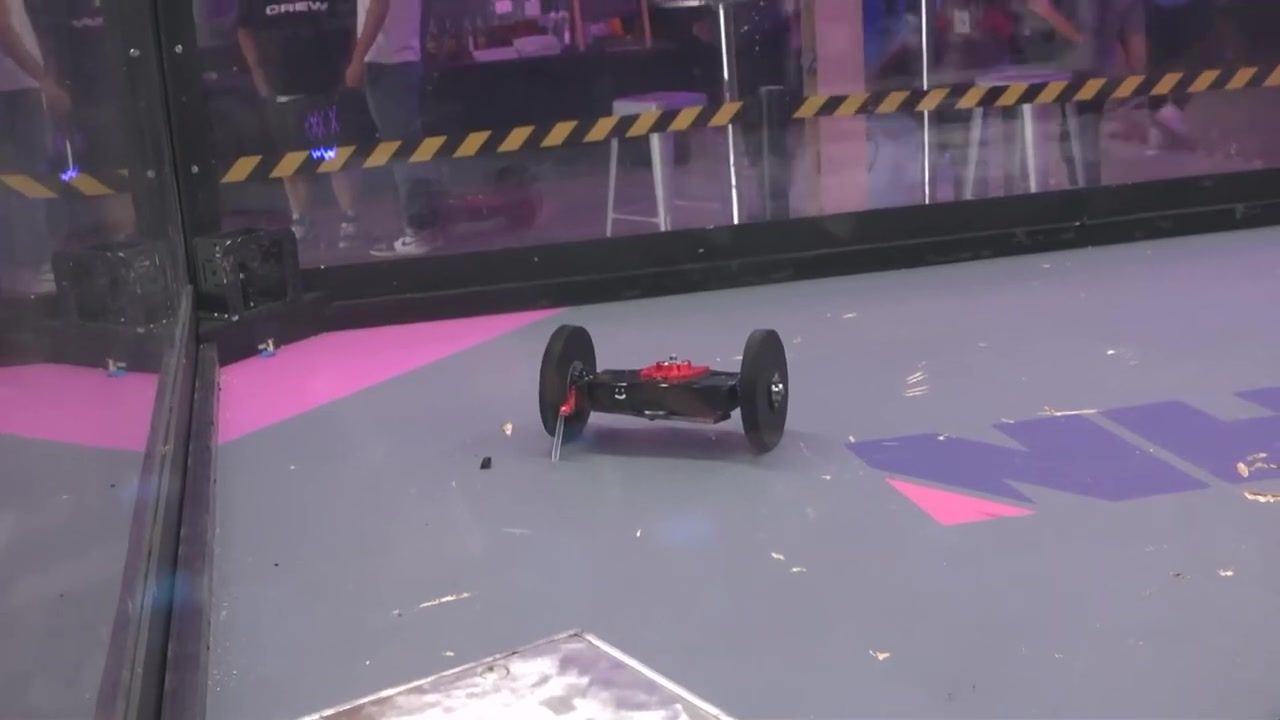combatbot: (541, 319, 791, 464)
housebot: (302, 629, 728, 719)
